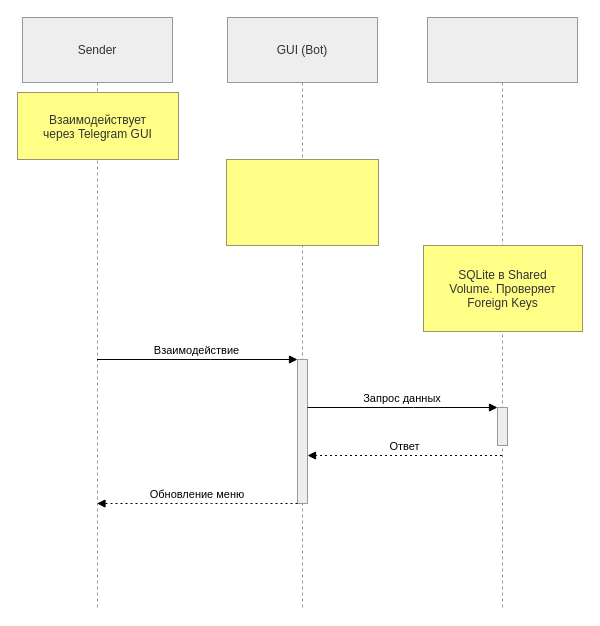
This 600x626 diagram has some shape labels left out. Here are the shapes that lost their labels. From the top down, the box of each, then its label:
(226, 158, 378, 246): Обрабатывает нажатия инлайн- кнопок меню бота
(426, 16, 578, 608): Database
